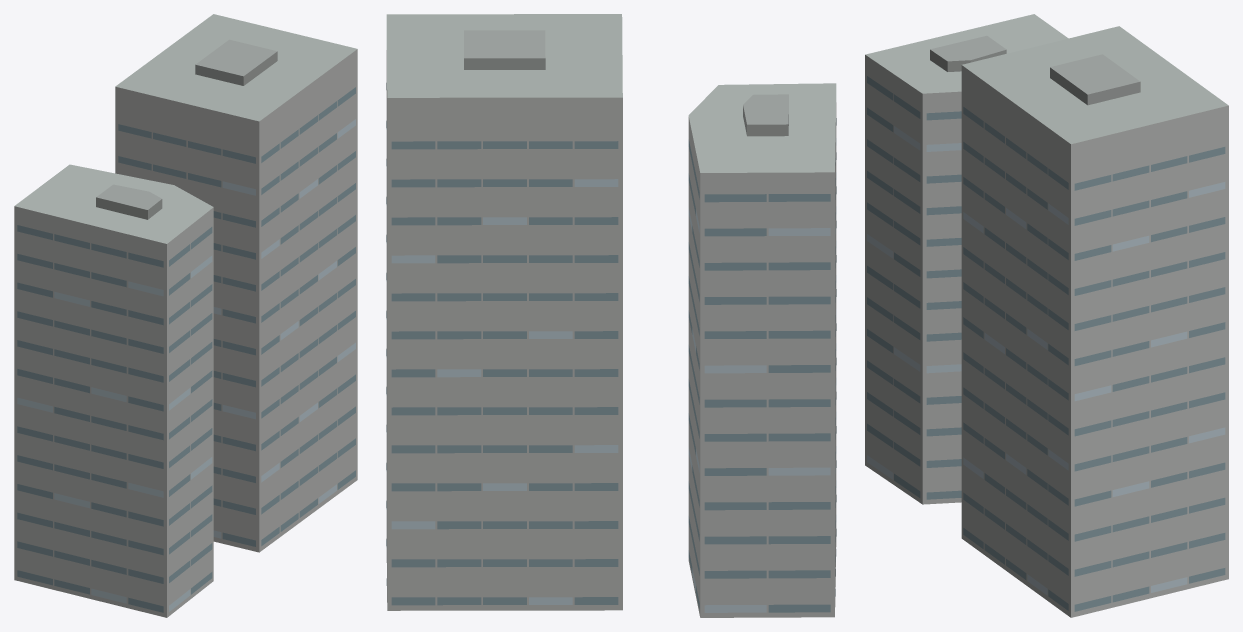
The model's file is apt-a13527005.glb.
3 renders of one model, left to right at view 1: azimuth 30°, elevation 25°; view 2: azimuth 150°, elevation 25°; view 3: azimuth 270°, elevation 25°, orthographic. The views are drawn at different scales.
Visible parts, largest first — view 1: apt-a13527005; view 2: apt-a13527005; view 3: apt-a13527005.
Boxes of the visible parts, left/top/right/bottom form: apt-a13527005: left=14, top=14, right=357, bottom=617; apt-a13527005: left=386, top=14, right=836, bottom=617; apt-a13527005: left=865, top=14, right=1228, bottom=617.
Size of the model in its own units: 92.34 by 108 by 73.49.
